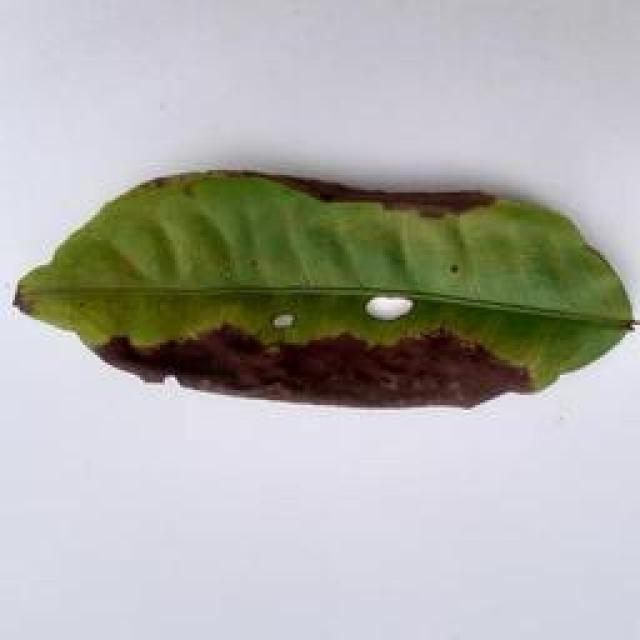Brown Blight: (6, 169, 640, 420)
